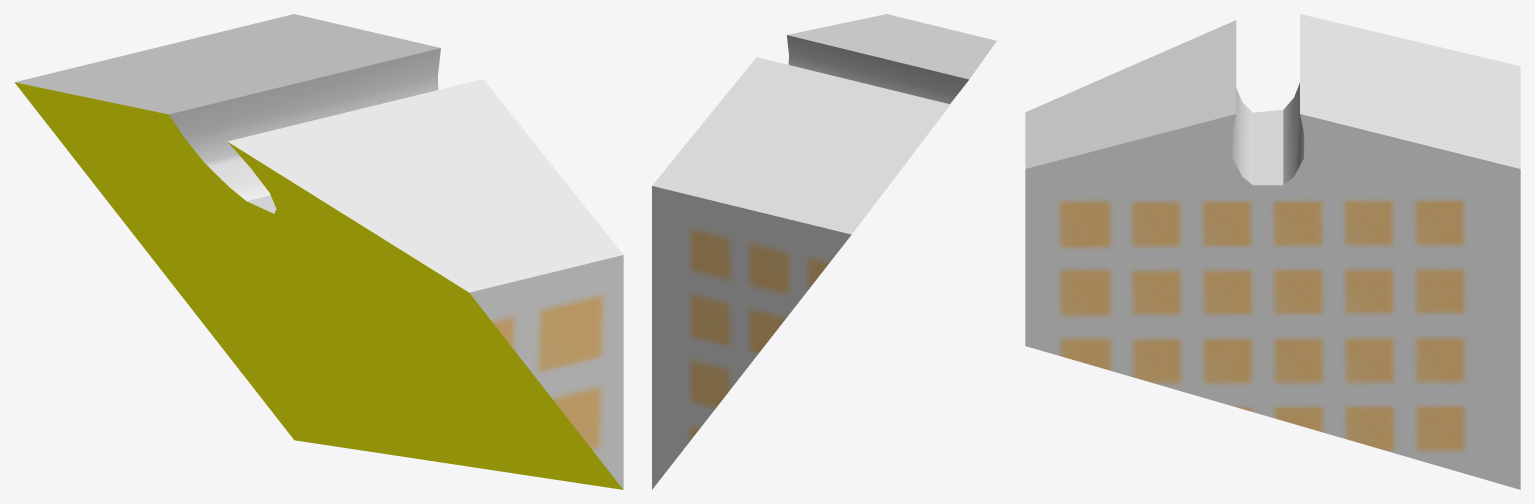
File: st1Shard2.fbx
3 views of the same model, side by side, from view 1: azimuth 30°, elevation 25°; view 2: azimuth 150°, elevation 25°; view 3: azimuth 270°, elevation 25° (orthographic). The views are drawn at different scales.
Parts seen in each view (by area): view 1: shard47; view 2: shard47; view 3: shard47.
Part boxes in pixels (x1,y1,x2,y2): shard47: (14, 14, 623, 489); shard47: (652, 14, 996, 489); shard47: (1025, 14, 1520, 489).
Bounding box in the file's own units: 0.0503 × 0.0858 × 0.1025.
Materials: 2 (1 with a texture image).
